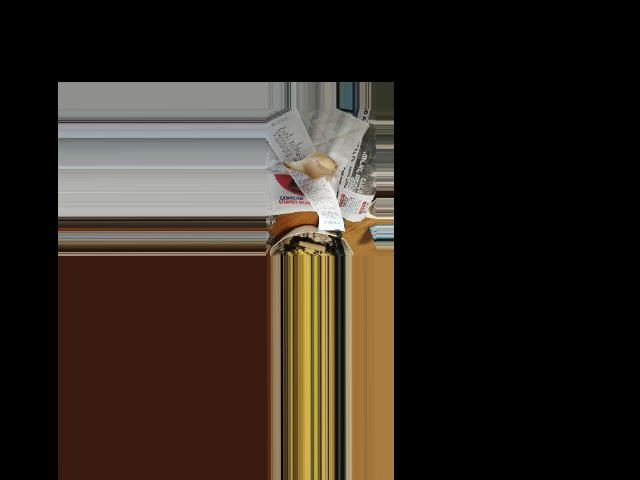onion: (298, 153, 334, 179)
